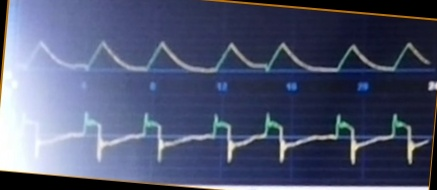Accumulation Flow: (16, 105, 427, 168)
Volume: (17, 29, 431, 78)
